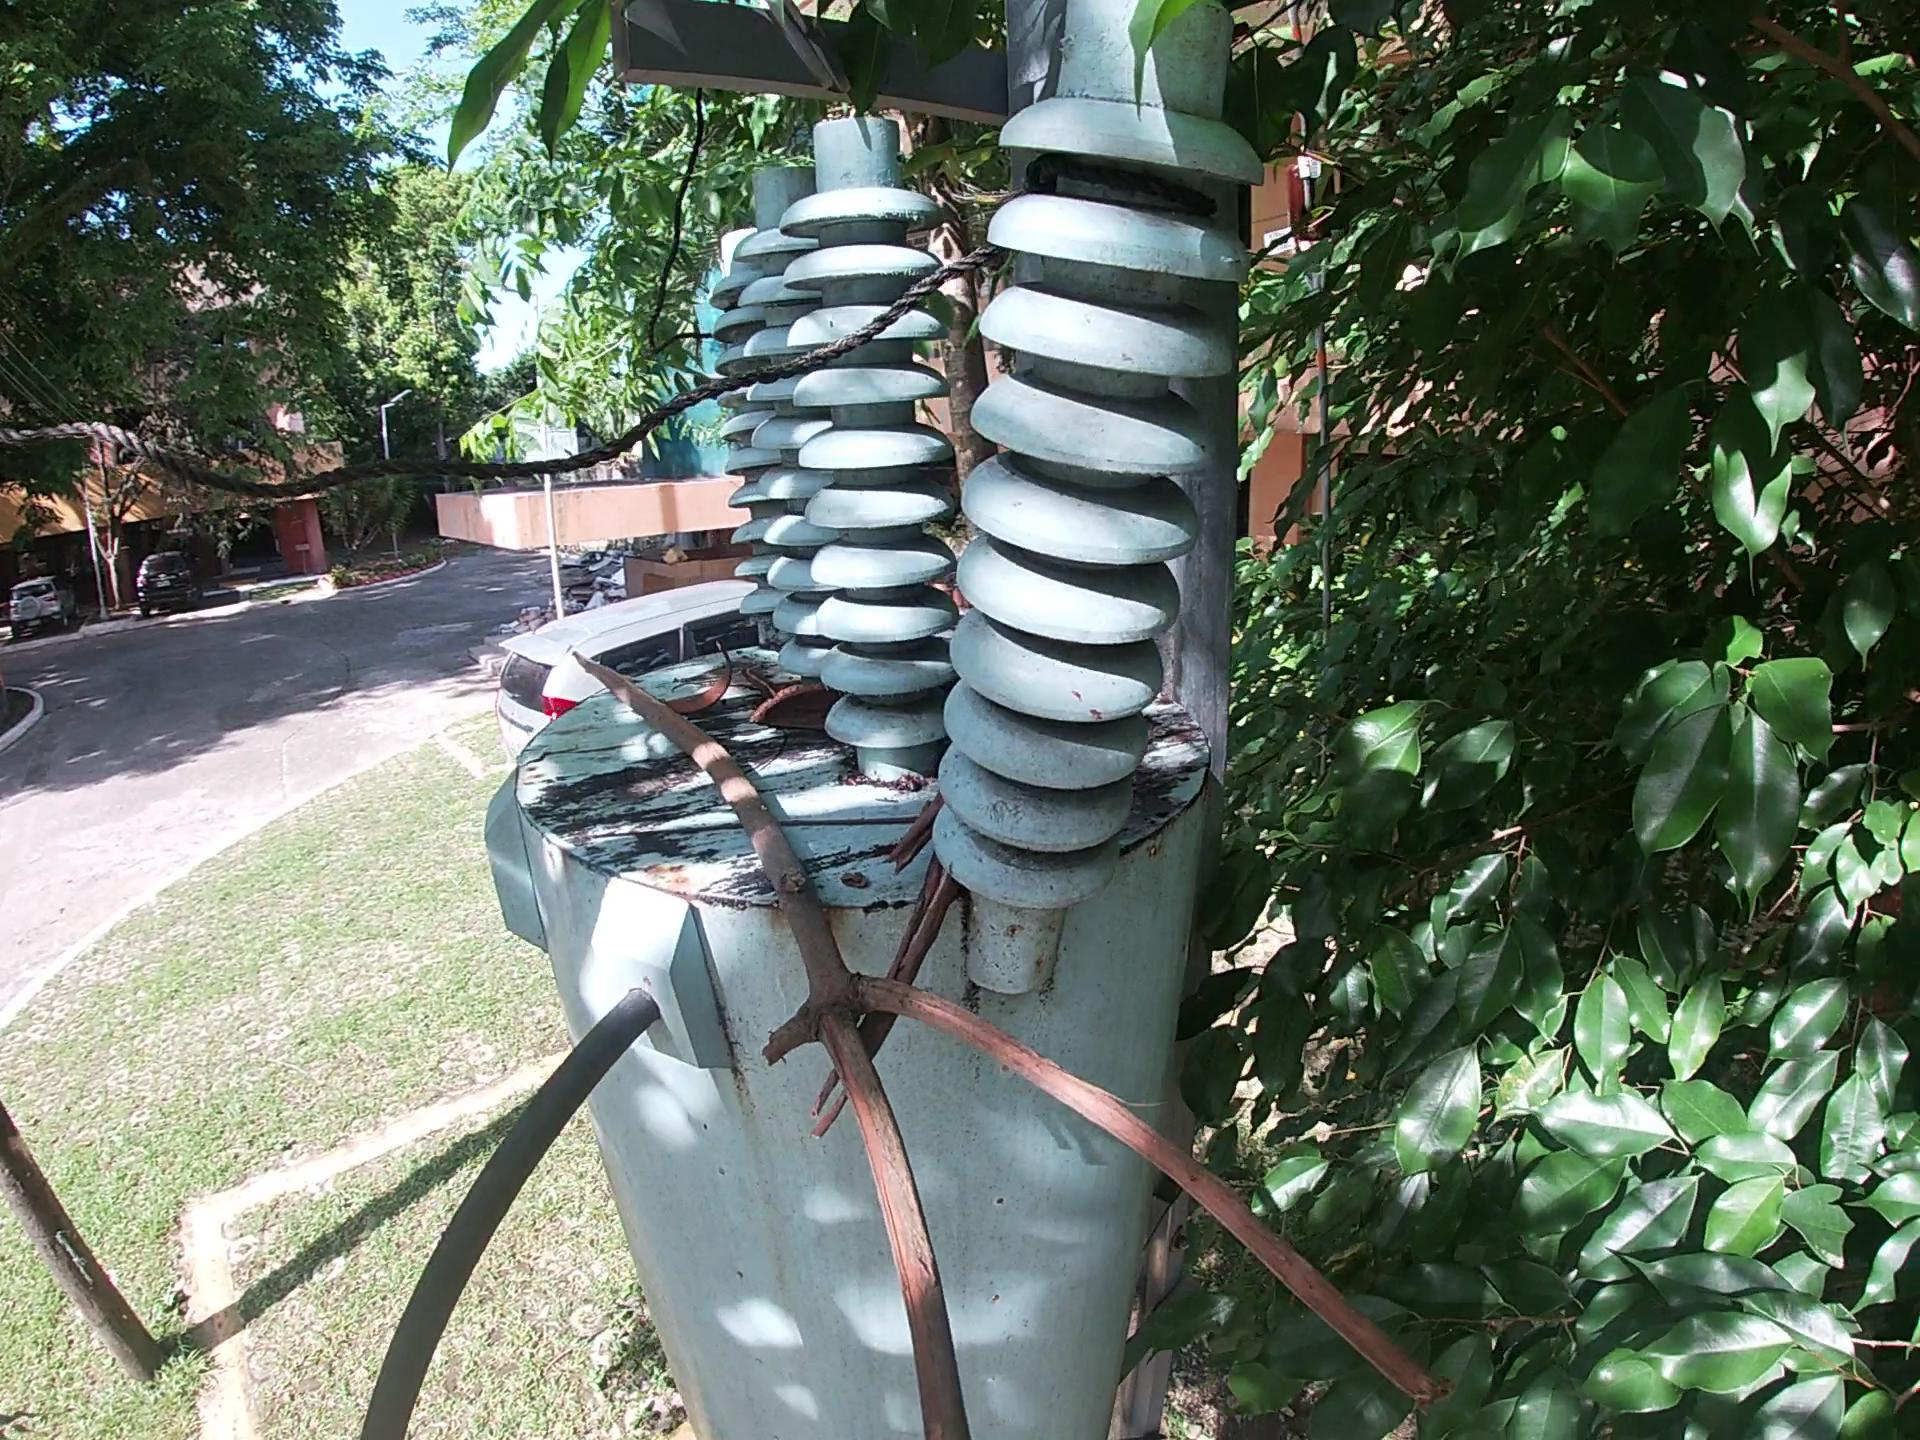mahogany fruit: (742, 675, 847, 740), (656, 638, 738, 717)
tree branch: (559, 644, 1453, 1437), (809, 797, 974, 1148)
